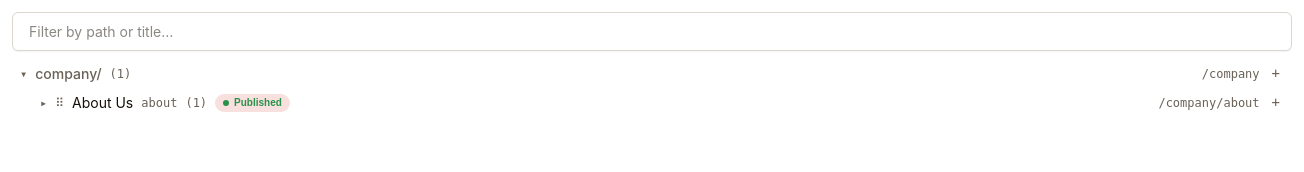
Test: EntityDirectoryPanel › filters the tree as you type, surfacing collapsed matches (#659)
Type "team" into the search field with placeholder "Filter by path or title…" at [652, 32], box [12,12,1292,51]
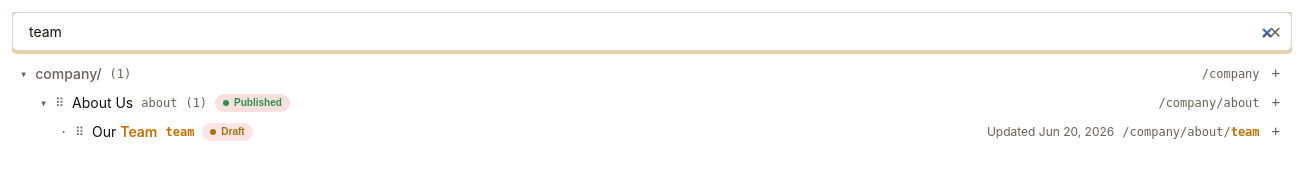
Now the link "Our Team" is shown, box [92,121,157,142]
# A non-matching query hides everything → the no-matches message.
Replace the text in the search field with placeholder "Filter by path or title…" with "zzz" at [652, 32], box [12,12,1292,51]
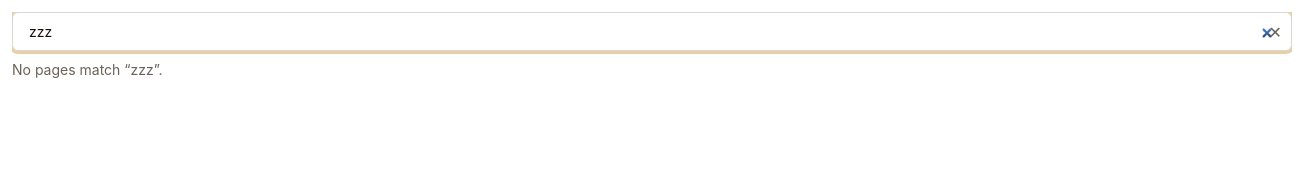
Now the text "No pages match “zzz”." is shown, box [12,61,162,78]
Now the link "About Us" is gone
